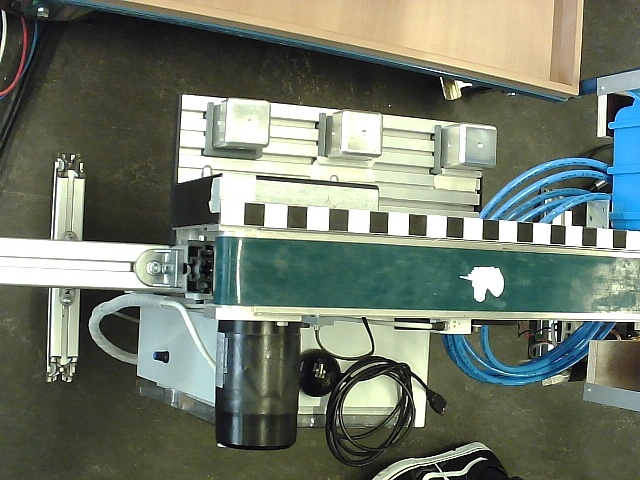unicorn: (458, 265, 506, 303)
